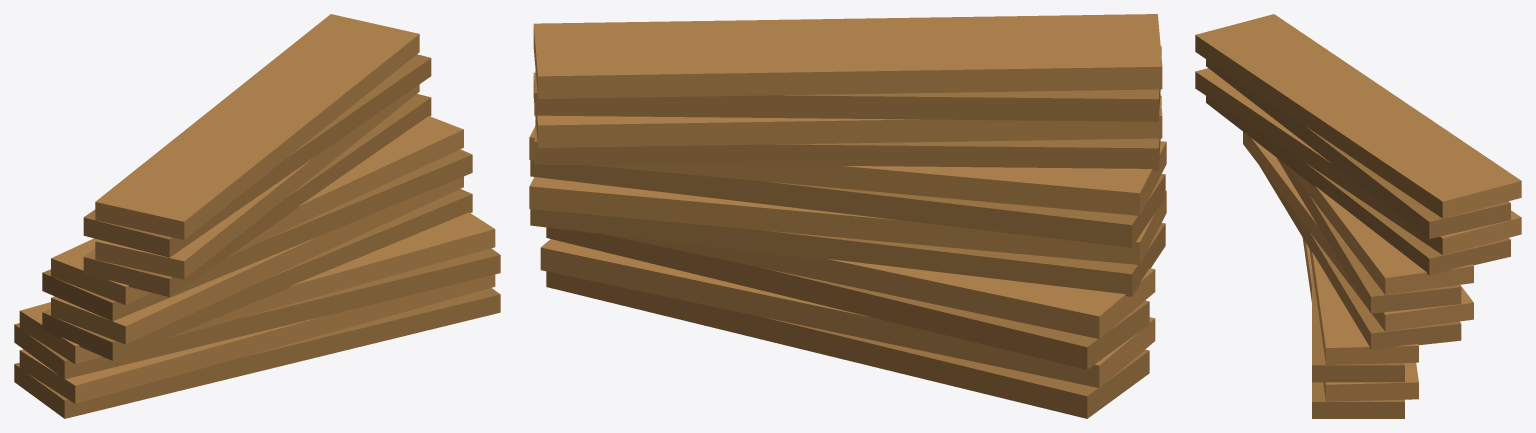
The model's file is Plank_Common.fbx.
3 views of the same model, side by side, from view 1: azimuth 30°, elevation 25°; view 2: azimuth 150°, elevation 25°; view 3: azimuth 270°, elevation 25° (orthographic). The views are drawn at different scales.
Parts seen in each view (by area): view 1: Plank_Common__Stack, Plank_Common; view 2: Plank_Common__Stack, Plank_Common; view 3: Plank_Common__Stack, Plank_Common.
Boxes of the visible parts, box(x1,y1,x2,y2) form: Plank_Common__Stack: box(42, 14, 472, 360); Plank_Common: box(14, 212, 500, 418); Plank_Common__Stack: box(529, 14, 1166, 296); Plank_Common: box(540, 227, 1155, 418); Plank_Common__Stack: box(1195, 14, 1521, 350); Plank_Common: box(1302, 238, 1418, 418).
Size of the model in its own units: 0.3055 by 0.151 by 0.2102.
